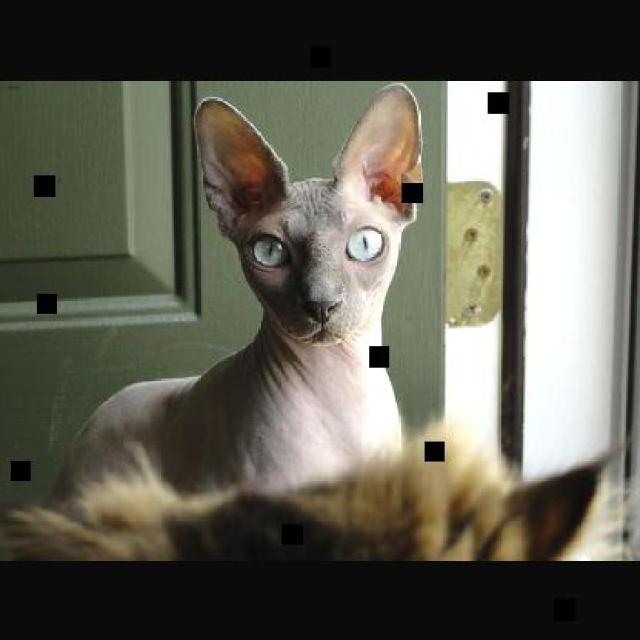unauthorized: (0, 81, 638, 560), (0, 417, 638, 560)
